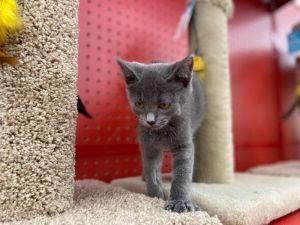rblue: (109, 48, 201, 143)
